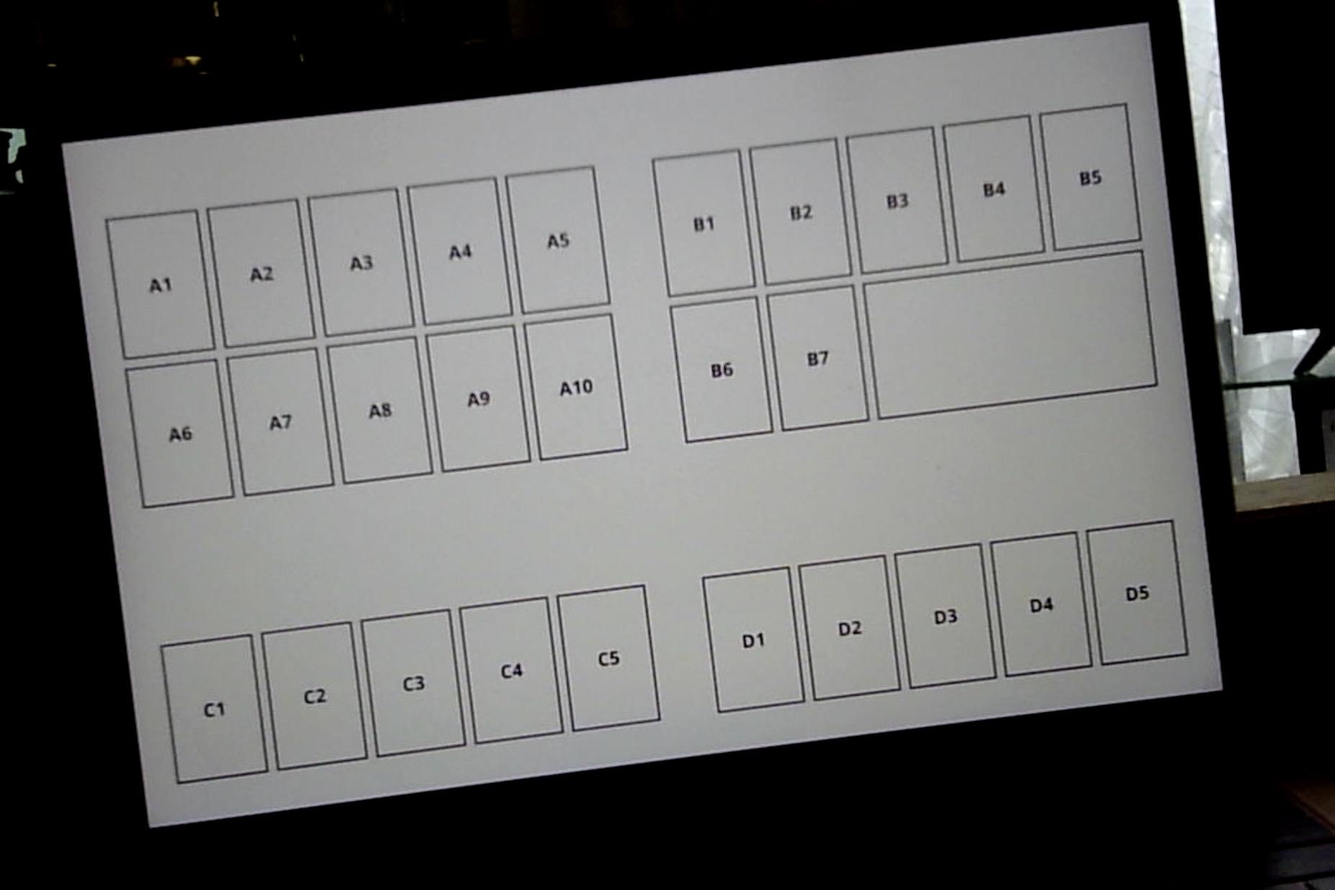parking space: (107, 210, 214, 356), (162, 635, 267, 782), (207, 201, 313, 346), (127, 361, 232, 506), (263, 623, 367, 769), (362, 610, 464, 756), (310, 189, 412, 334), (409, 179, 511, 323), (229, 351, 331, 495), (330, 338, 431, 482), (429, 327, 530, 470), (559, 587, 660, 730), (463, 598, 562, 743), (508, 168, 608, 311), (654, 152, 754, 295), (704, 568, 804, 711), (800, 557, 900, 699), (751, 140, 850, 283), (848, 128, 947, 271), (1041, 106, 1140, 249), (526, 316, 625, 459), (896, 544, 995, 687), (991, 534, 1091, 675), (1087, 523, 1187, 664), (673, 299, 772, 441), (945, 117, 1043, 260), (769, 287, 867, 429)
